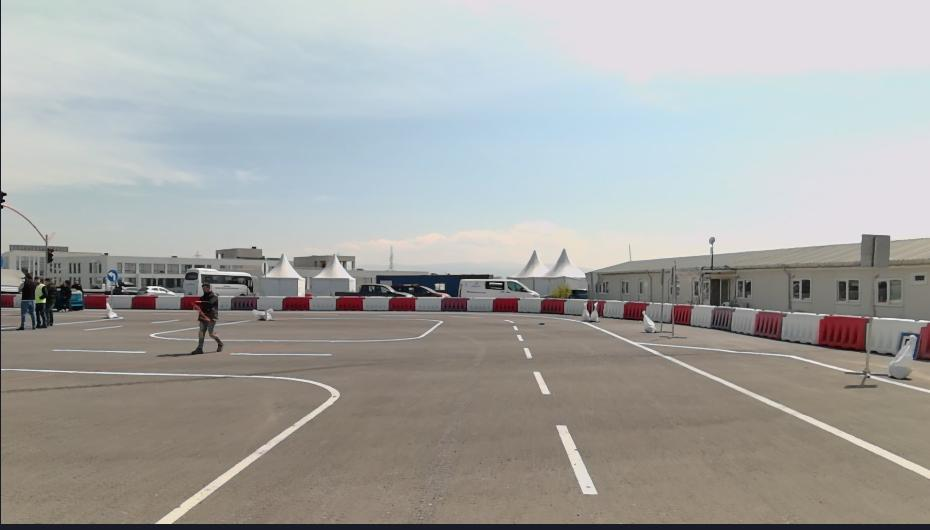nesne: (155, 309, 929, 527), (157, 312, 611, 523), (506, 312, 929, 524), (517, 315, 928, 480), (2, 365, 343, 522), (634, 339, 929, 479), (638, 340, 928, 396), (216, 294, 583, 316), (222, 318, 442, 342), (555, 423, 596, 493), (865, 315, 928, 353), (191, 284, 222, 354), (816, 312, 869, 351), (86, 295, 202, 312), (181, 268, 254, 295), (883, 333, 917, 379), (456, 278, 538, 296), (782, 310, 820, 344), (52, 277, 85, 312), (17, 271, 36, 331), (50, 345, 148, 356), (225, 348, 336, 357), (754, 307, 784, 339), (335, 284, 412, 296), (32, 276, 49, 327), (731, 307, 762, 334), (147, 325, 197, 341), (397, 285, 446, 297), (646, 301, 673, 322), (712, 306, 733, 332), (690, 304, 714, 326), (55, 277, 72, 308), (43, 275, 53, 325), (622, 300, 647, 320), (915, 321, 928, 359), (335, 293, 362, 311), (531, 369, 549, 396), (670, 303, 693, 324), (280, 295, 311, 310), (539, 298, 565, 315), (641, 307, 657, 334), (308, 296, 336, 311), (362, 297, 390, 312), (154, 295, 180, 311), (104, 295, 133, 309), (414, 297, 443, 311), (257, 297, 285, 311), (231, 296, 257, 311), (389, 296, 415, 311), (493, 297, 519, 312), (467, 298, 494, 312), (564, 298, 586, 315), (604, 300, 624, 318), (441, 298, 468, 311), (178, 297, 201, 312), (518, 298, 541, 313), (138, 284, 176, 293), (131, 295, 155, 309), (254, 305, 273, 320), (217, 294, 234, 310), (85, 296, 106, 308), (590, 298, 599, 322), (580, 298, 590, 319), (106, 271, 120, 285), (0, 293, 13, 307), (11, 293, 22, 309), (105, 301, 116, 317), (522, 346, 532, 358), (598, 299, 603, 317), (505, 316, 516, 323)
